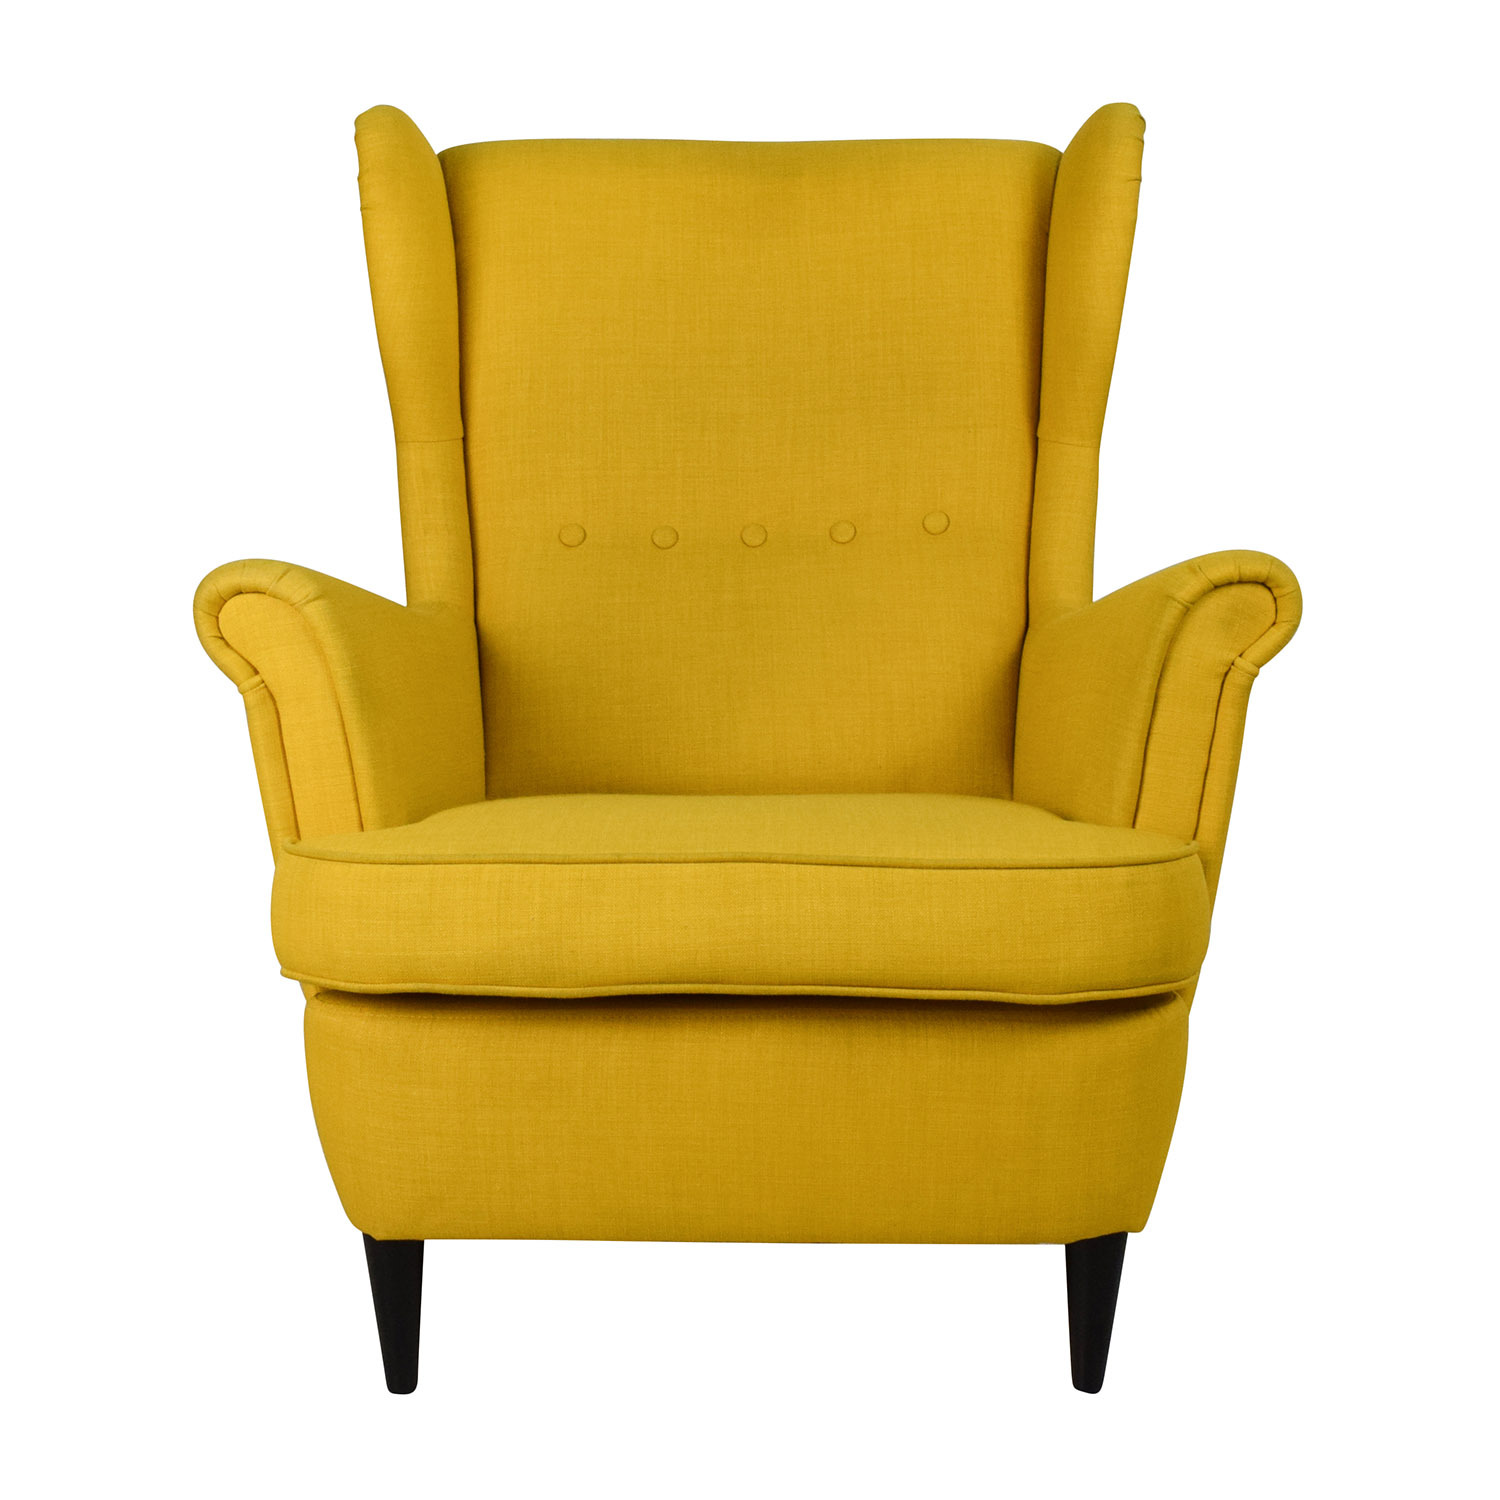chairs: (181, 99, 1309, 1409)
